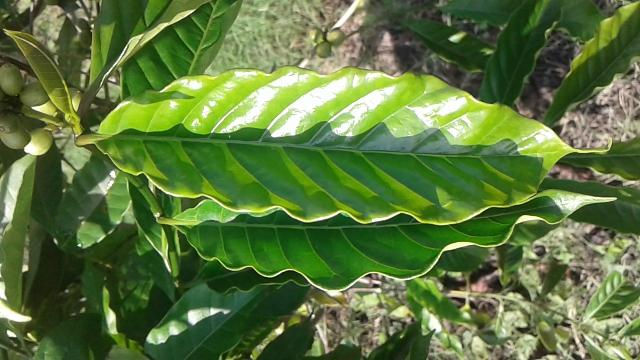healthy: (90, 62, 628, 226)
